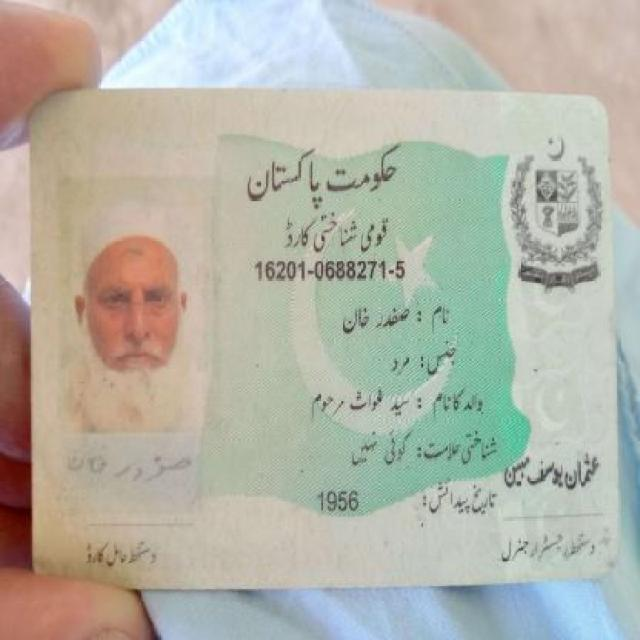Front: (16, 74, 622, 586)
